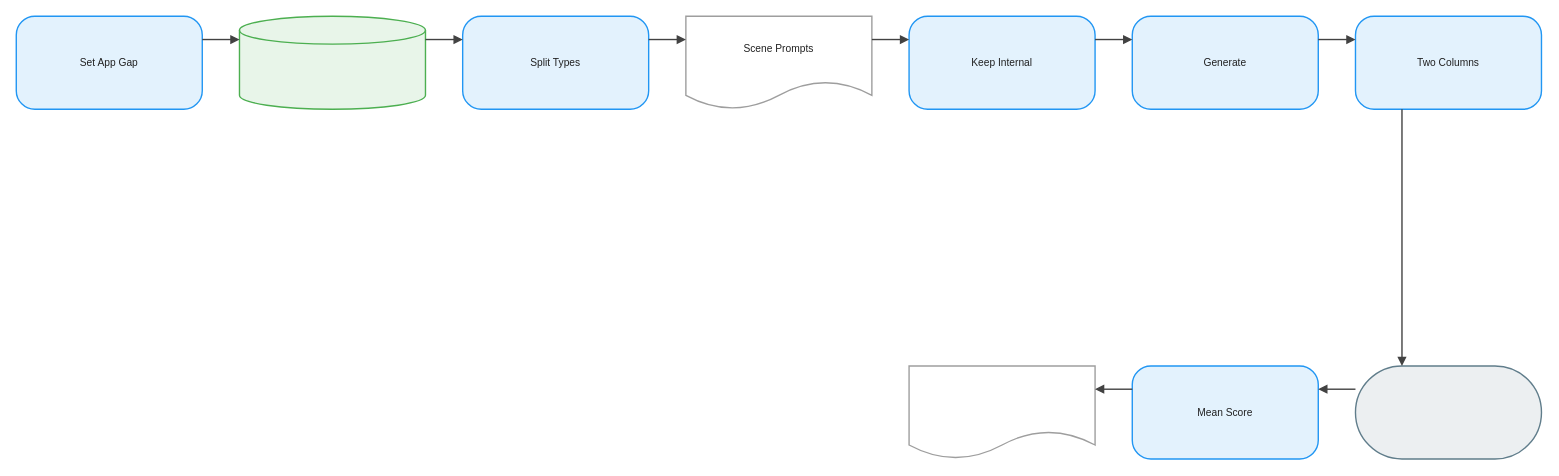
This 1559x476 diagram has some shape labels left out. Each missing label, with the centre of its shape:
Curate 500: the point at 332,62
Protocol N/A: the point at 1001,412
Scene Score: the point at 1448,412
